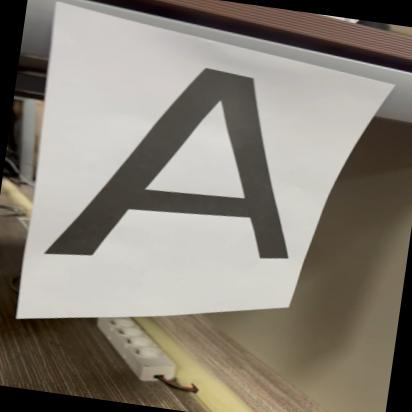seat: (39, 46, 336, 298)
